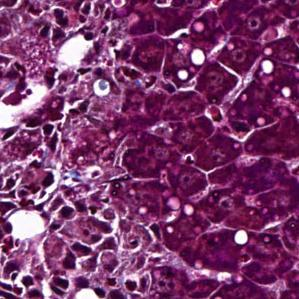ballooning: (0, 79, 50, 131)
